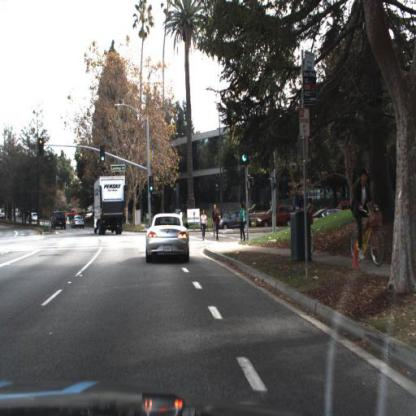biker: (347, 164, 388, 273), (293, 187, 314, 257)
car: (146, 213, 193, 263), (256, 206, 295, 231), (219, 212, 253, 230), (50, 209, 70, 232), (71, 213, 86, 231), (72, 213, 87, 229)
pedestrian: (240, 202, 248, 241), (211, 204, 219, 235), (200, 210, 208, 239), (215, 211, 223, 240)
trafficLight-Green: (241, 135, 249, 167), (148, 174, 157, 196), (100, 145, 108, 166)
trafficLight-RedLeft: (38, 137, 46, 157)
truck: (94, 174, 130, 239)
